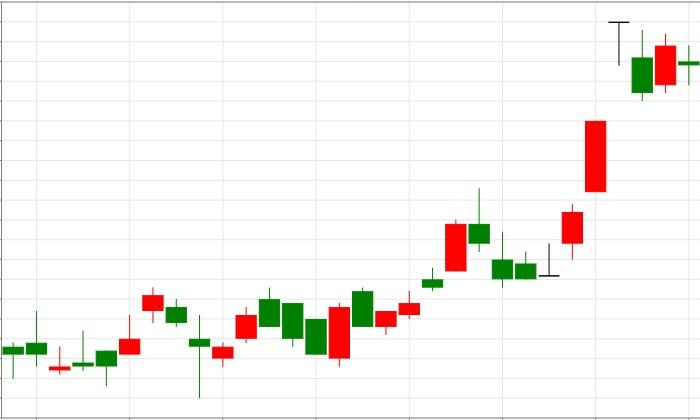bullish_engulfing_rise: (259, 287, 351, 366)
shooting_star_fall: (328, 187, 490, 367)
